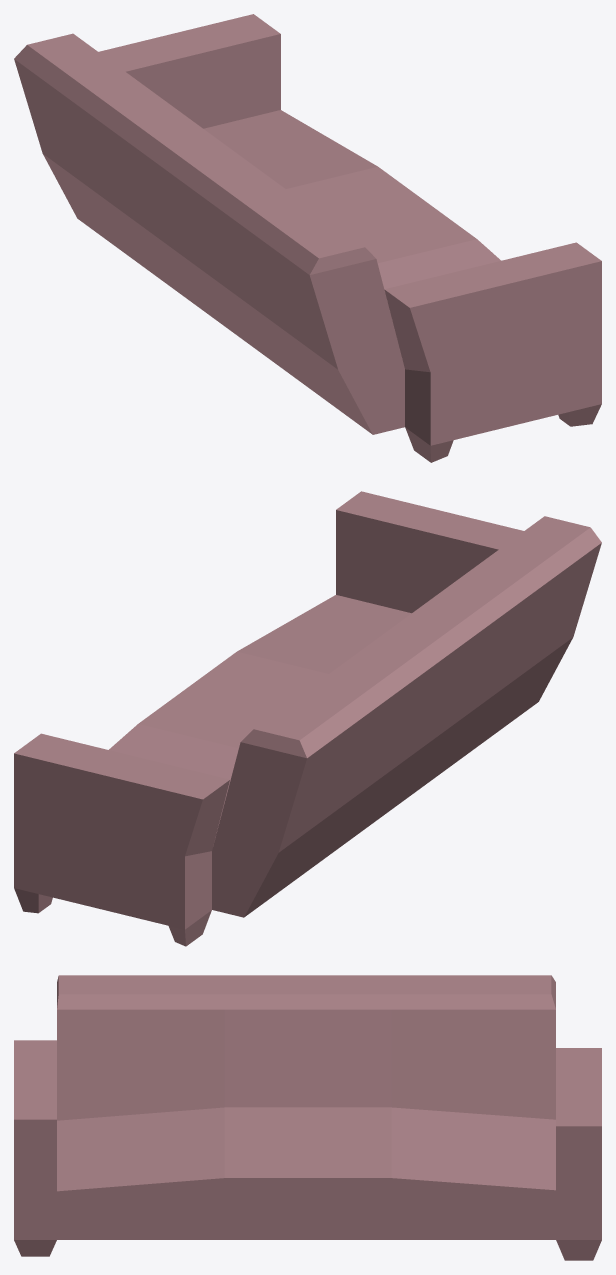
Rendered from Sofa.fbx.
3 renders of one model, top to bottom at view 1: azimuth 30°, elevation 25°; view 2: azimuth 150°, elevation 25°; view 3: azimuth 270°, elevation 25°, orthographic. The views are drawn at different scales.
Visible parts, largest first — view 1: Cube; view 2: Cube; view 3: Cube.
Part boxes in pixels (<box>): Cube: <box>14,14,601,462</box>; Cube: <box>14,491,601,946</box>; Cube: <box>14,975,601,1260</box>.
Size of the model in its own units: 311 by 240 by 704.
